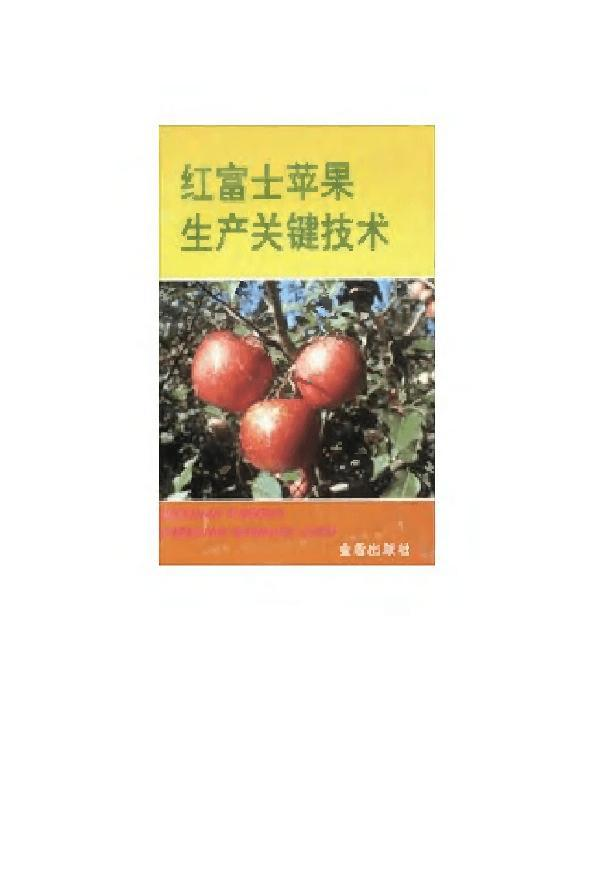apple: (190, 322, 278, 414), (237, 398, 322, 474), (293, 332, 367, 409)
